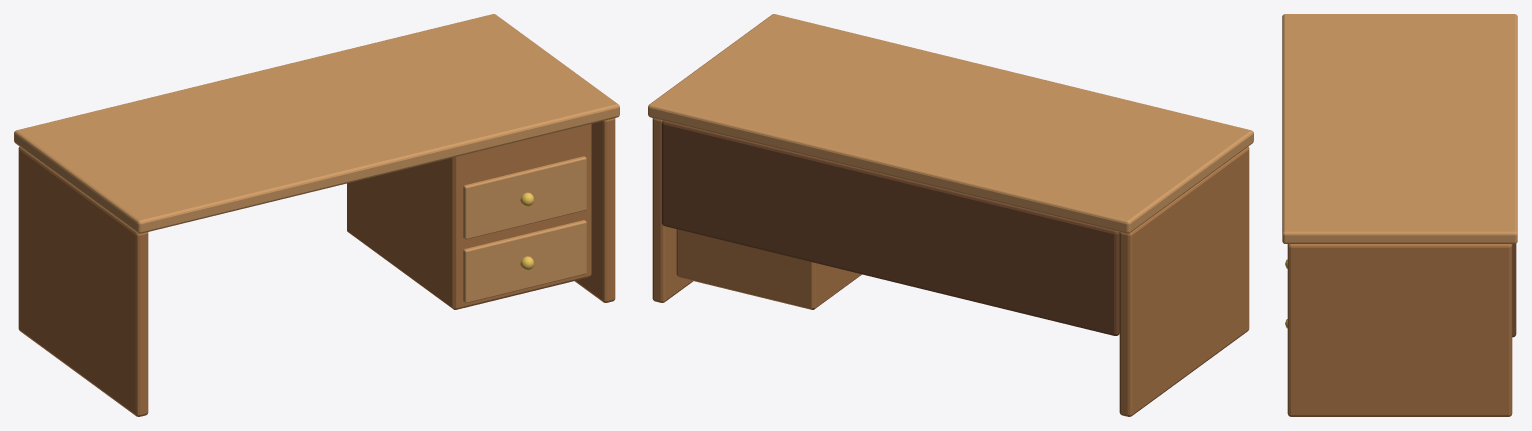
Rendered from desk.glb.
3 renders of one model, left to right at view 1: azimuth 30°, elevation 25°; view 2: azimuth 150°, elevation 25°; view 3: azimuth 270°, elevation 25°, orthographic. The views are drawn at different scales.
Parts seen in each view (by area): view 1: top, leg-panel, drawer-block, drawer-front, drawer-front.001, leg-panel.001; view 2: top, back, leg-panel, drawer-block, leg-panel.001; view 3: top, leg-panel.001, back.
Boxes of the visible parts, x1,y1,x2,y2 form: top: [14, 14, 619, 233]; leg-panel: [18, 146, 148, 416]; drawer-block: [347, 124, 591, 309]; drawer-front: [463, 220, 586, 303]; drawer-front.001: [463, 156, 586, 239]; leg-panel.001: [574, 118, 615, 302]; top: [648, 14, 1253, 233]; back: [661, 120, 1119, 335]; leg-panel: [1119, 146, 1249, 416]; drawer-block: [676, 229, 861, 309]; leg-panel.001: [652, 118, 693, 302]; top: [1282, 14, 1517, 243]; leg-panel.001: [1287, 244, 1512, 416]; back: [1512, 244, 1516, 337].
Bounding box in the file's own units: 1.9 × 0.75 × 0.86.
